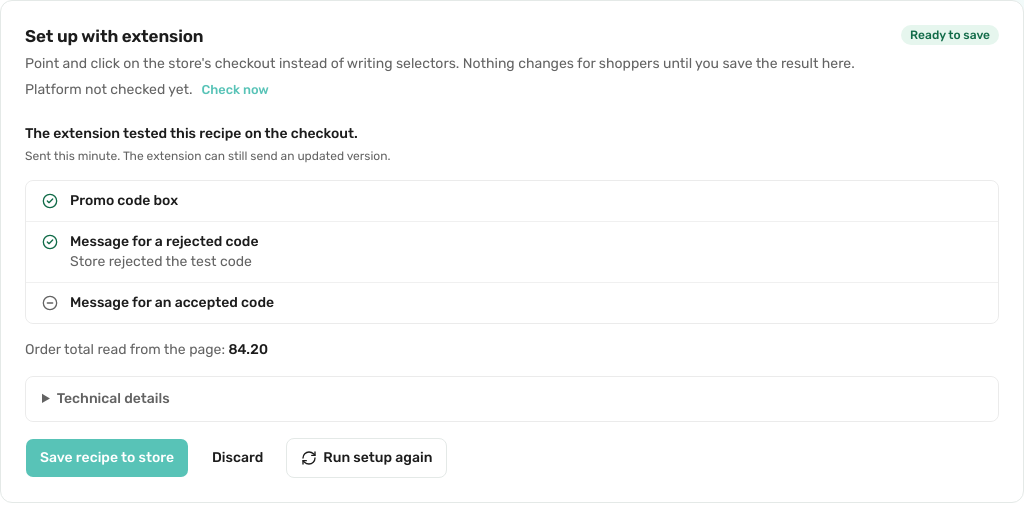
shows the test result in plain language and saves the draft
Check: the list items read "Promo code box: Passed", "Message for a rejected code: PassedStore rejected the test code", "Message for an accepted code: Skipped", in this order, box [26, 181, 998, 222]; [26, 222, 998, 283]; [42, 293, 334, 311]
Check: the text "84.20" is shown, box [228, 341, 268, 358]
Click the button "Save recipe to store". click: (107, 458)
box: [25, 438, 189, 478]
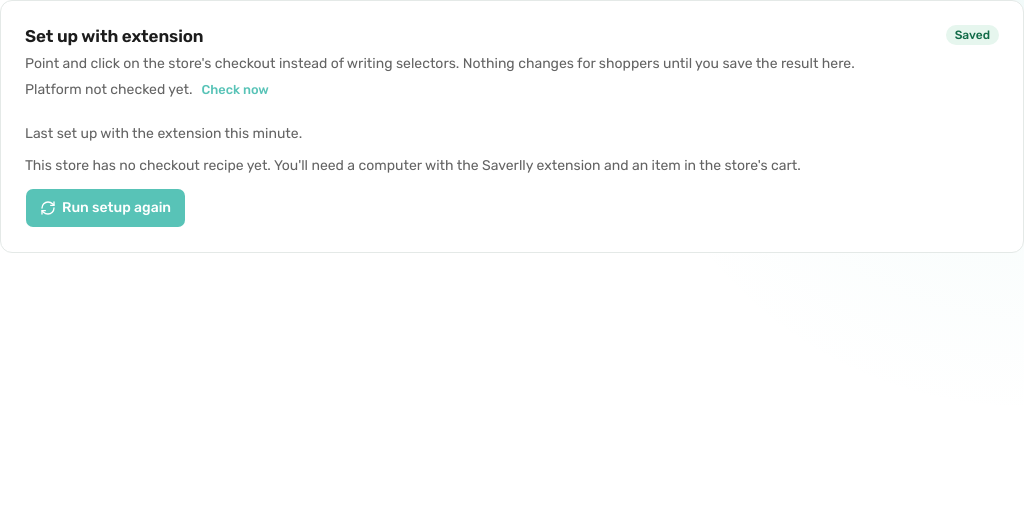
Check: the text "Last set up with the extension this minute." is shown, box [25, 124, 302, 144]
